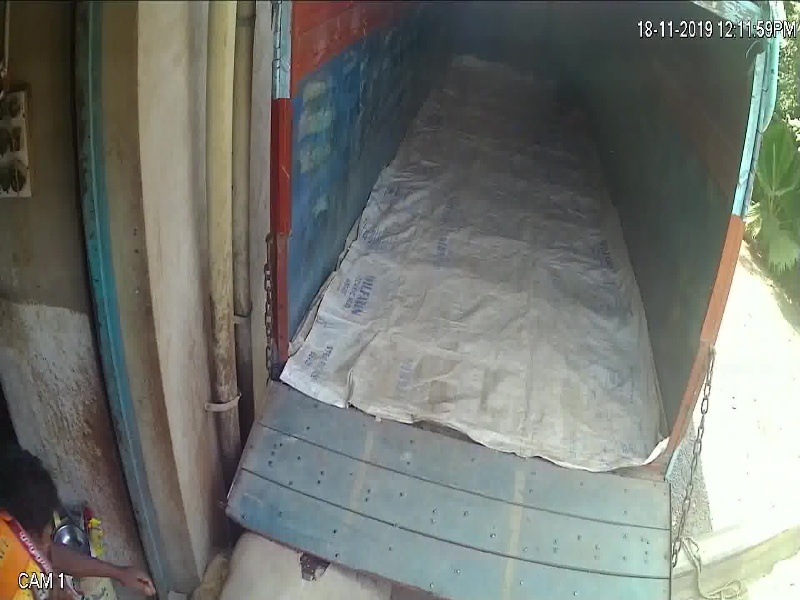Bag: (1, 514, 55, 600)
